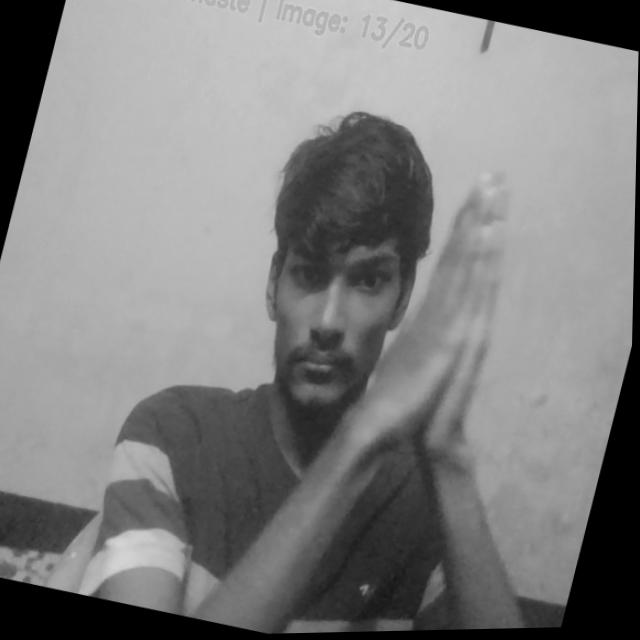Namaste: (377, 164, 545, 487)
